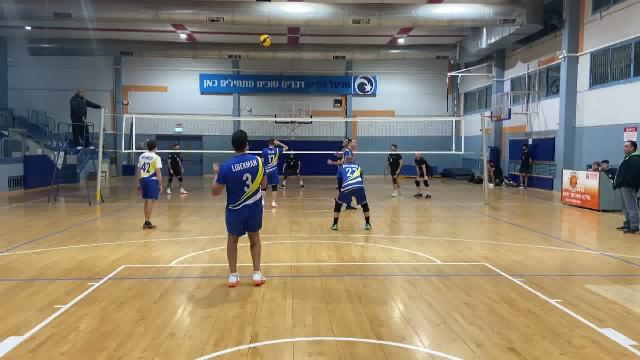ball: (259, 33, 274, 49)
